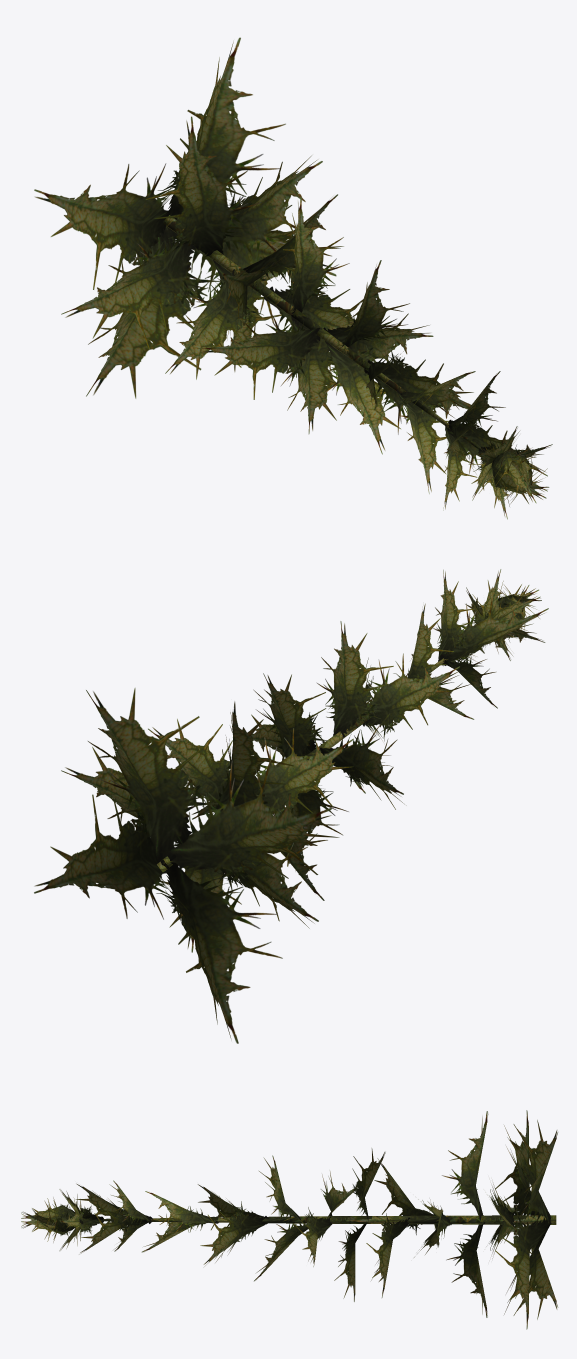
The model's file is Pl_Weed1.glb.
3 renders of one model, top to bottom at view 1: azimuth 30°, elevation 25°; view 2: azimuth 150°, elevation 25°; view 3: azimuth 270°, elevation 25°, orthographic. The views are drawn at different scales.
Parts seen in each view (by area): view 1: thistle; view 2: thistle; view 3: thistle.
Part boxes in pixels (x1,y1,x2,y2): thistle: (34, 37, 552, 519); thistle: (34, 569, 548, 1043); thistle: (21, 1110, 558, 1329).
Size of the model in its own units: 0.4948 by 0.5 by 0.9659.
1 material, 1 textured.
